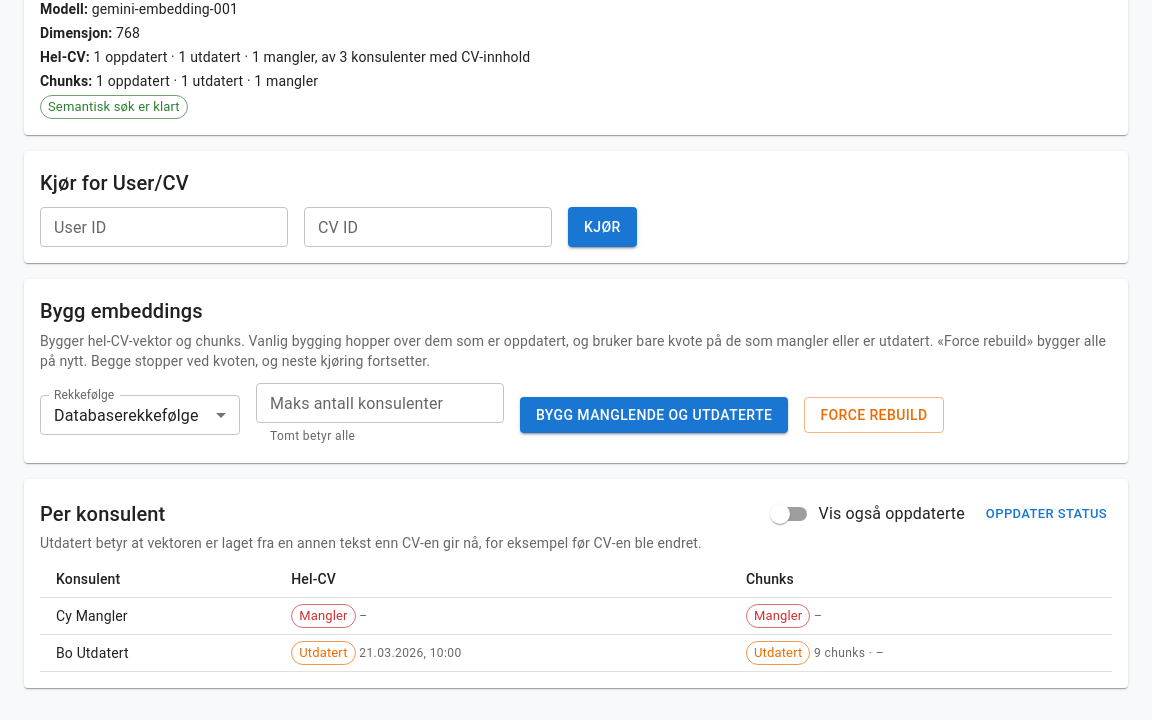
it: EmbeddingsPage › shows how many are current, stale and missing, and lists only the ones that are not current
(page scrolled)
Expected: the text "1 oppdatert · 1 utdatert · 1 mangler, av 3 konsulenter" is shown, [40,49,530,65]
Expected: the text "Cy Mangler" is shown, [40,598,275,635]
Click the checkbox labelled "Vis også oppdaterte" at [867, 514], box [770,504,965,524]
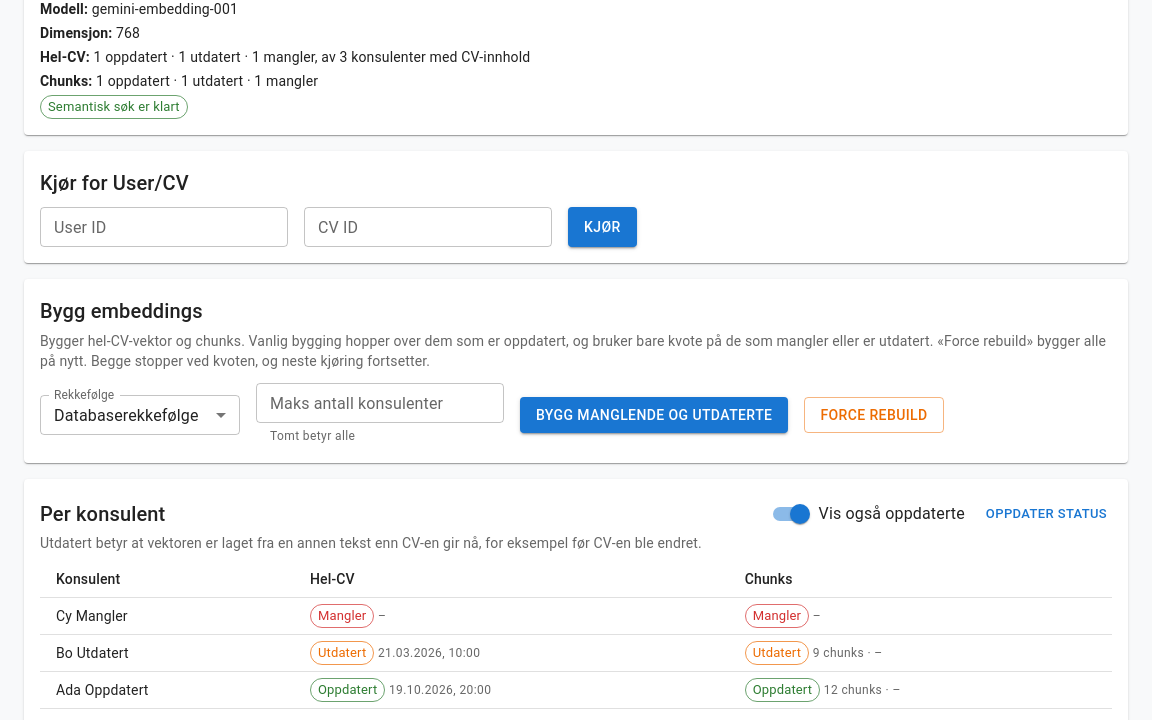
Result: the text "Ada Oppdatert" is shown at [40,672,294,709]
